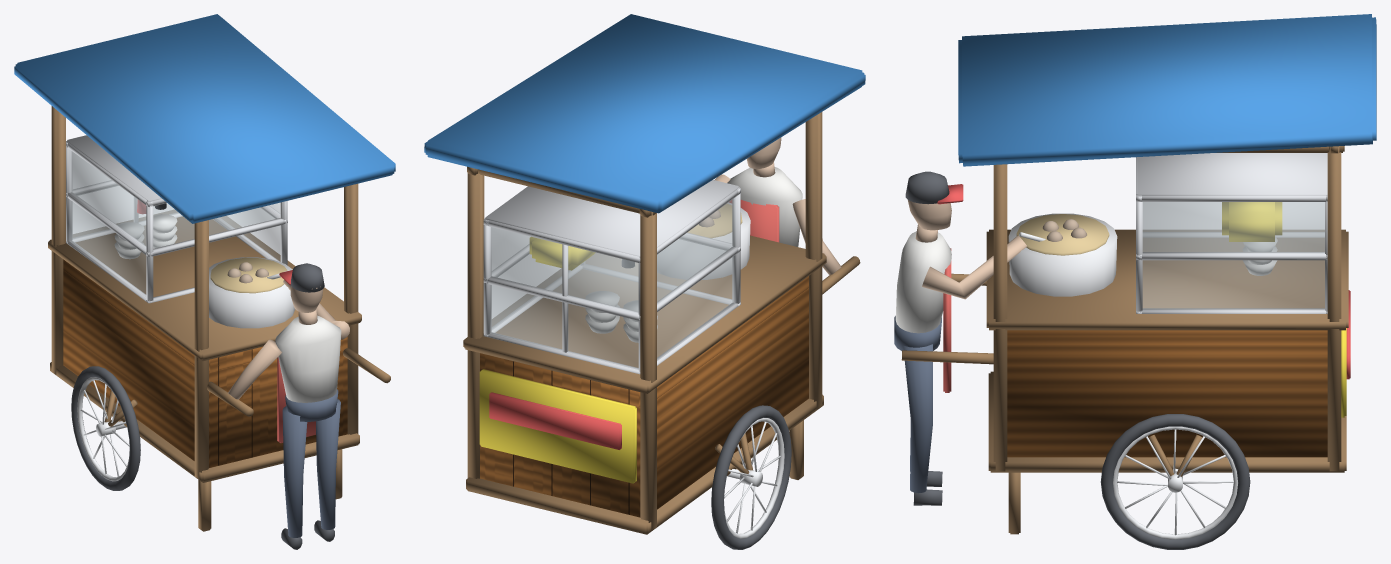
File: gerobak.glb
3 views of the same model, side by side, from view 1: azimuth 30°, elevation 25°; view 2: azimuth 150°, elevation 25°; view 3: azimuth 270°, elevation 25° (orthographic). The views are drawn at different scales.
Parts seen in each view (by area): view 1: RoofCanopy, CartBody, CartCounterTop, GlassLeft, VendorTorso, GlassShelf, TiangGerobak_-0.5_-0.75, TiangGerobak_-0.5_0.91, CartBaseFrame, DandangPot, TiangGerobak_0.5_-0.75, BikeTire_0 (+23 smaller); view 2: RoofCanopy, CartBody, CartCounterTop, GlassFront, CartSignFront, GlassTop, GlassLeft, GlassShelf, CartBaseFrame, TiangGerobak_-0.5_0.91, TiangGerobak_0.5_0.91, TiangGerobak_-0.5_-0.75 (+25 smaller); view 3: RoofCanopy, CartBody, CartCounterTop, GlassRight, GlassTop, GlassShelf, CartBaseFrame, BikeTire_1, DandangPot, TiangGerobak_0.5_0.91, TiangGerobak_0.5_-0.75, VendorTorso (+17 smaller).
Boxes of the visible parts, x1,y1,x2,y2 form: RoofCanopy: (14,14,395,223); CartBody: (63,259,347,467); CartCounterTop: (48,210,361,360); GlassLeft: (69,150,146,296); VendorTorso: (275,315,341,402); GlassShelf: (77,185,277,248); TiangGerobak_-0.5_-0.75: (194,220,208,479); TiangGerobak_-0.5_0.91: (51,106,65,374); CartBaseFrame: (50,362,359,482); DandangPot: (209,257,295,328); TiangGerobak_0.5_-0.75: (344,183,358,434); BikeTire_0: (71,366,140,490); RoofCanopy: (424,14,865,213); CartBody: (480,276,808,517); CartCounterTop: (463,235,826,393); GlassFront: (490,227,638,369); CartSignFront: (479,369,636,483); GlassTop: (485,180,738,256); GlassLeft: (657,197,735,360); GlassShelf: (497,238,727,311); CartBaseFrame: (466,394,823,534); TiangGerobak_-0.5_0.91: (640,212,656,530); TiangGerobak_0.5_0.91: (467,173,484,478); TiangGerobak_-0.5_-0.75: (805,112,822,409); RoofCanopy: (958,14,1376,166); CartBody: (1007,330,1327,457); CartCounterTop: (986,229,1348,330); GlassRight: (1142,202,1324,309); GlassTop: (1137,153,1327,195); GlassShelf: (1143,202,1324,251); CartBaseFrame: (988,371,1346,472); BikeTire_1: (1100,414,1250,549); DandangPot: (1008,213,1117,296); TiangGerobak_0.5_0.91: (1327,146,1341,471); TiangGerobak_0.5_-0.75: (993,164,1007,471); VendorTorso: (895,231,951,333).
Size of the model in its own units: 1.38 by 2.33 by 2.4.
Materials: 16 (1 with a texture image).
